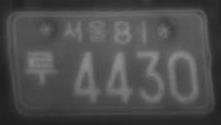0: (165, 47, 201, 105)
1: (135, 18, 153, 45)
3: (134, 48, 165, 105)
4: (70, 49, 103, 105), (103, 49, 134, 106)
8: (111, 18, 133, 46)
루: (23, 48, 58, 86)
서울_O: (62, 18, 108, 44)
